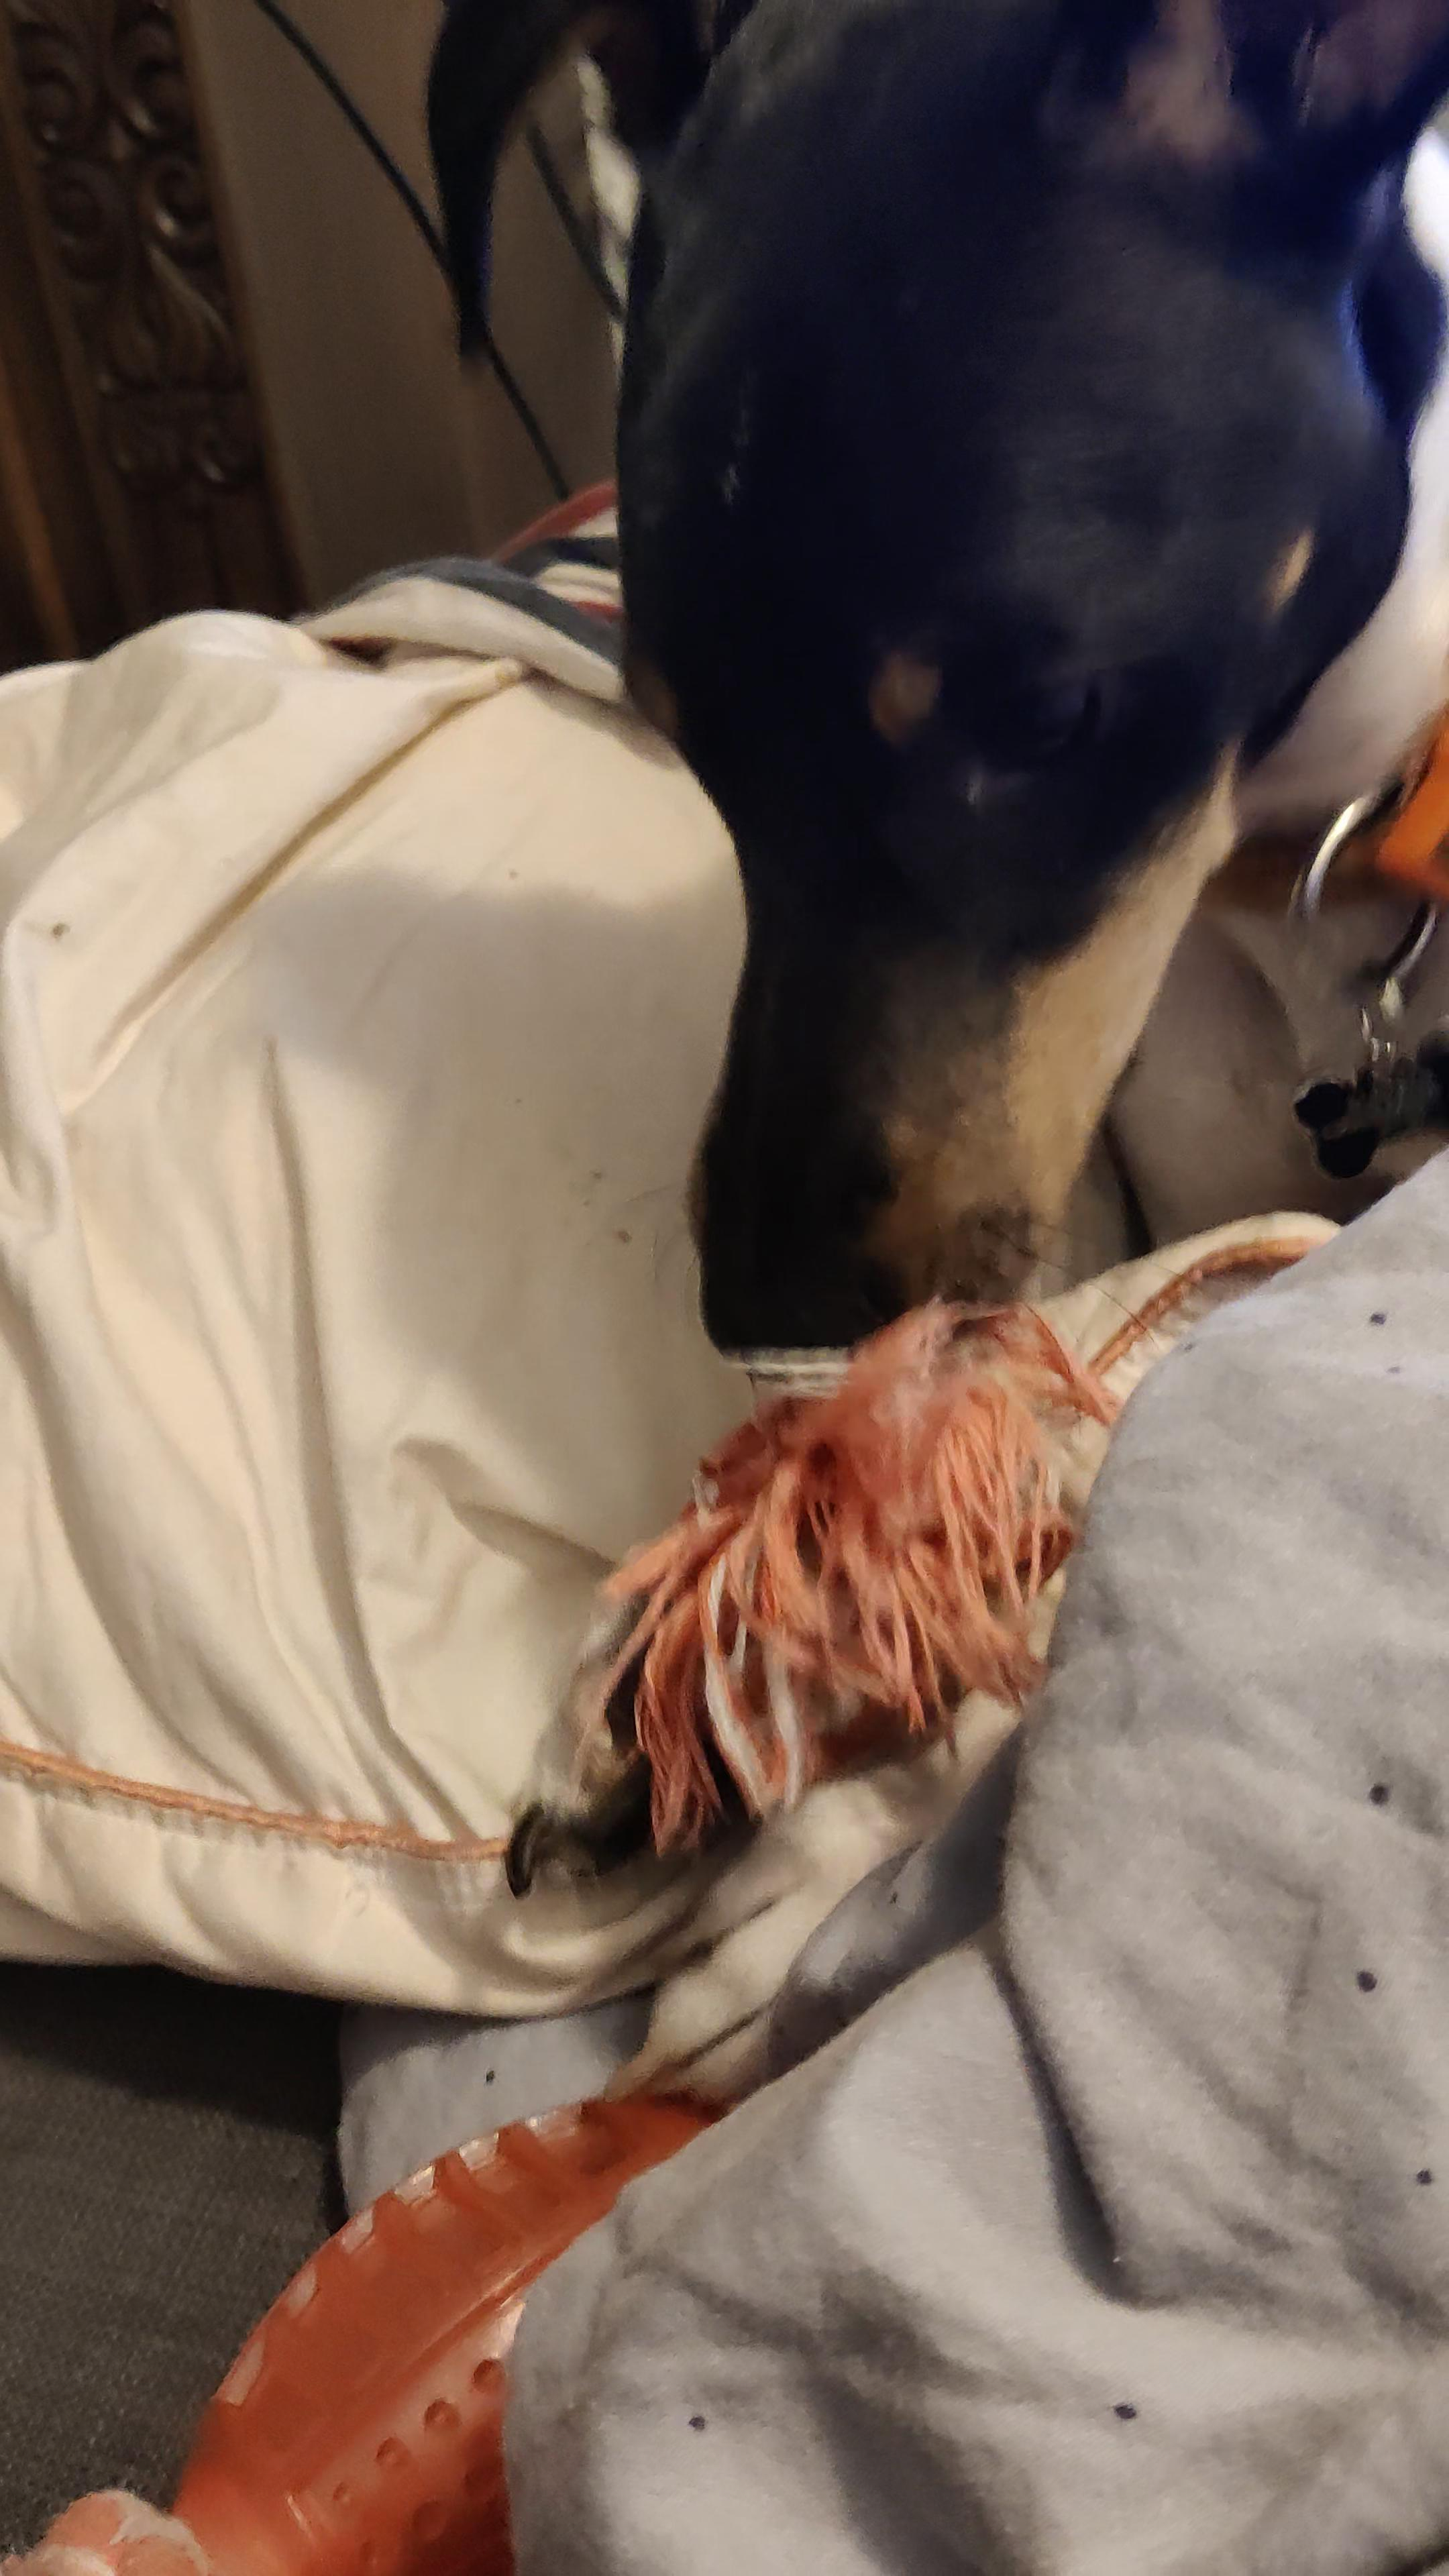Dog: (389, 0, 1449, 2151)
